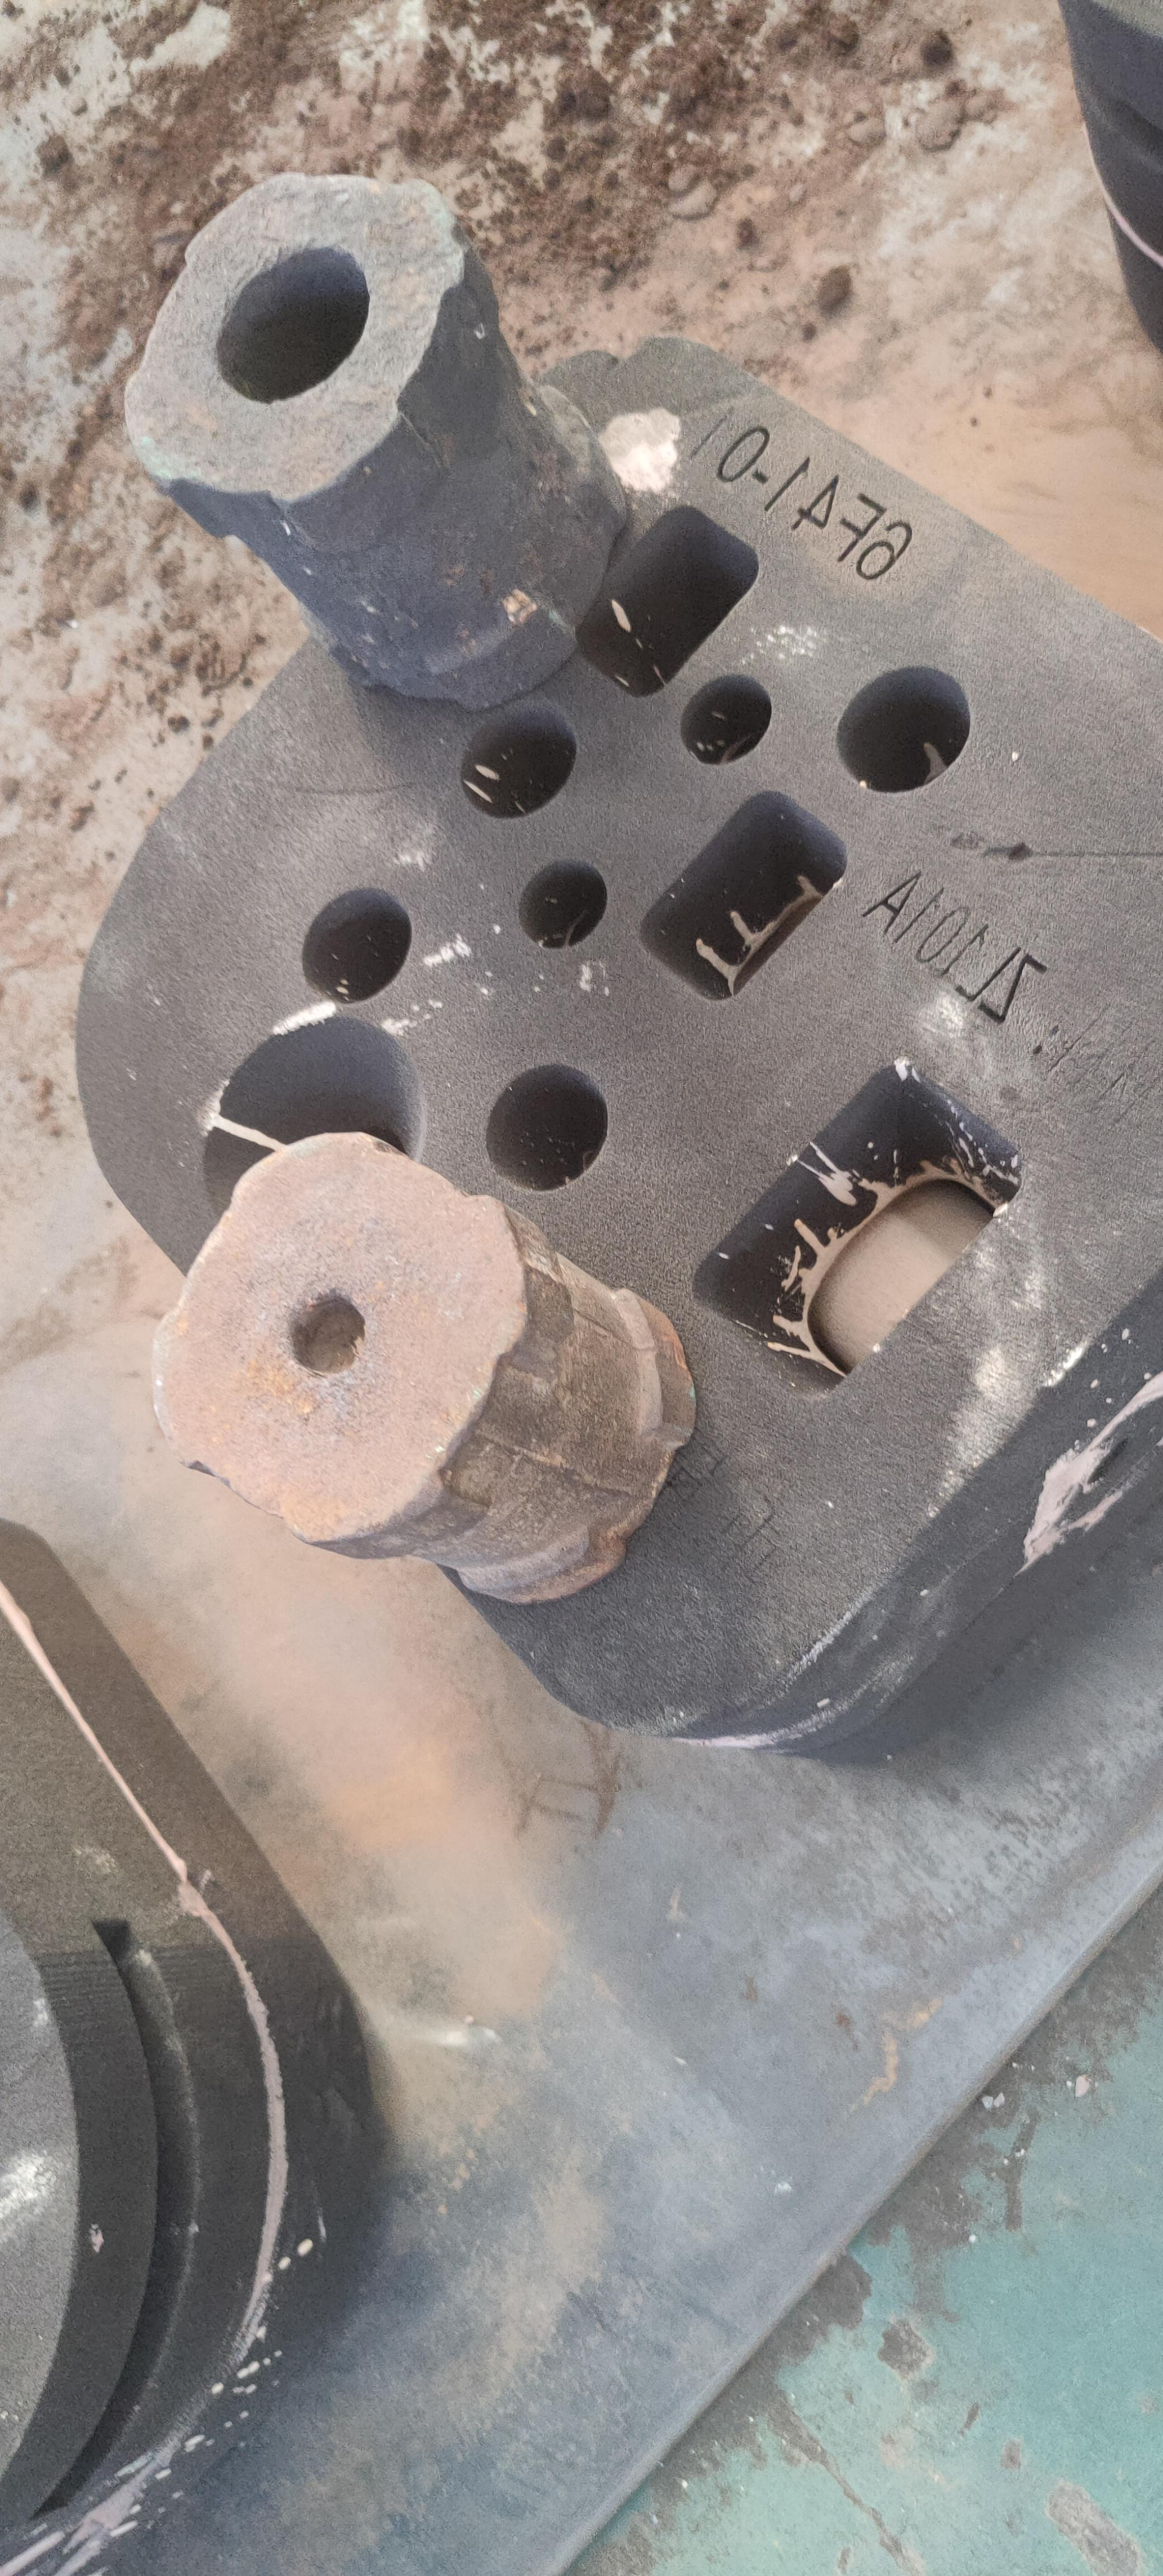pouring hole: (199, 1014, 432, 1217)
